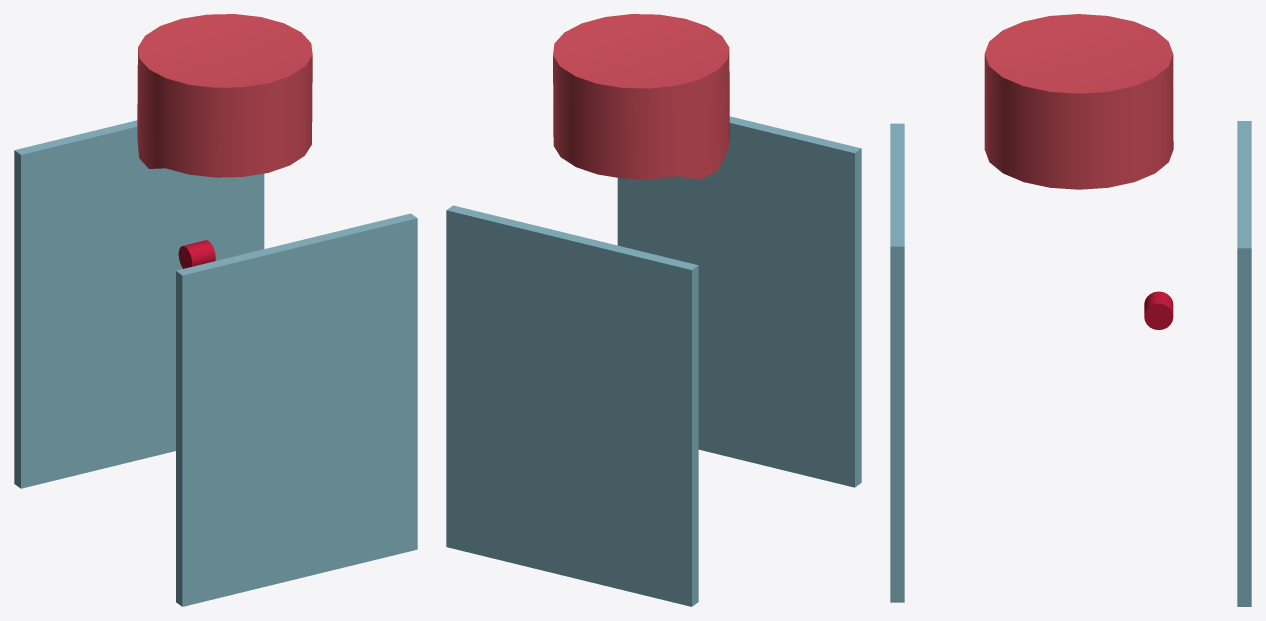
Rendered from CabinaTrans.obj.
The picture shows the model from 3 angles, left to right: view 1: azimuth 30°, elevation 25°; view 2: azimuth 150°, elevation 25°; view 3: azimuth 270°, elevation 25°; orthographic projection. The views are drawn at different scales.
Visible parts, largest first — view 1: polySurface19 SirenaPequenaBaja1, SirenaPequenaBaja1 polySurface10, SirenaPequenaBaja1 polySurface3, SirenaPequenaBaja1 polySurface20; view 2: SirenaPequenaBaja1 polySurface10, polySurface19 SirenaPequenaBaja1, SirenaPequenaBaja1 polySurface3; view 3: SirenaPequenaBaja1 polySurface3, SirenaPequenaBaja1 polySurface10, polySurface19 SirenaPequenaBaja1, SirenaPequenaBaja1 polySurface20.
Boxes of the visible parts, x1,y1,x2,y2 form: polySurface19 SirenaPequenaBaja1: (176,213,417,606); SirenaPequenaBaja1 polySurface10: (14,120,264,488); SirenaPequenaBaja1 polySurface3: (137,14,312,177); SirenaPequenaBaja1 polySurface20: (178,240,215,268); SirenaPequenaBaja1 polySurface10: (446,205,698,606); polySurface19 SirenaPequenaBaja1: (617,116,861,487); SirenaPequenaBaja1 polySurface3: (553,14,729,179); SirenaPequenaBaja1 polySurface3: (984,14,1173,189); SirenaPequenaBaja1 polySurface10: (1237,121,1251,606); polySurface19 SirenaPequenaBaja1: (890,123,904,602); SirenaPequenaBaja1 polySurface20: (1144,291,1173,329).
Size of the model in its own units: 1.07 by 1.94 by 1.28.
4 materials, 4 textured.
